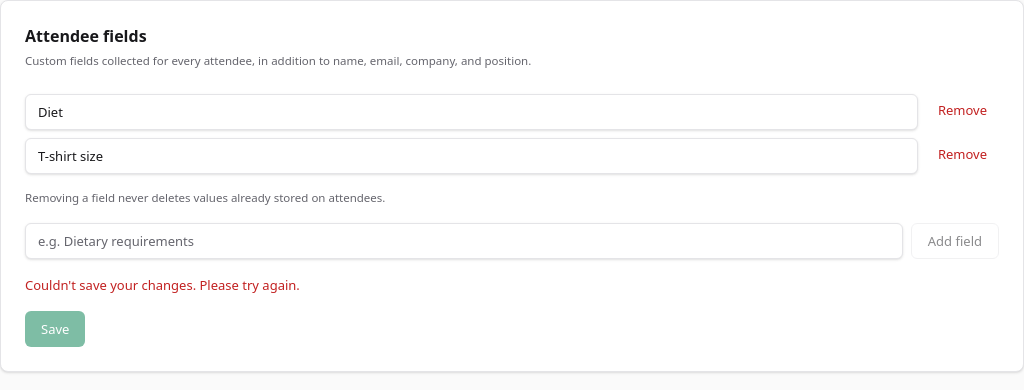
Scenario: AttendeeFieldsCard › renames a field inline
Replace the text in the field showing "Diet" with "Dietary needs" at (471, 112), box [25, 94, 918, 130]
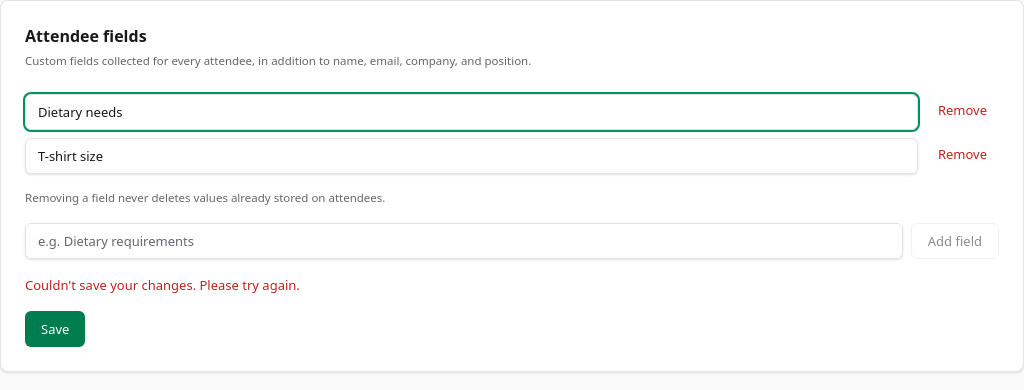
Check: the button "Save" is enabled, box [25, 311, 85, 347]
